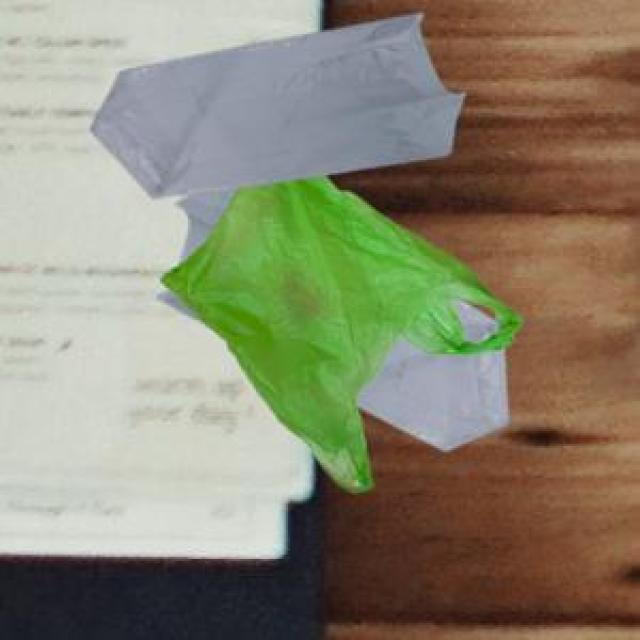waste: (92, 17, 521, 492)
